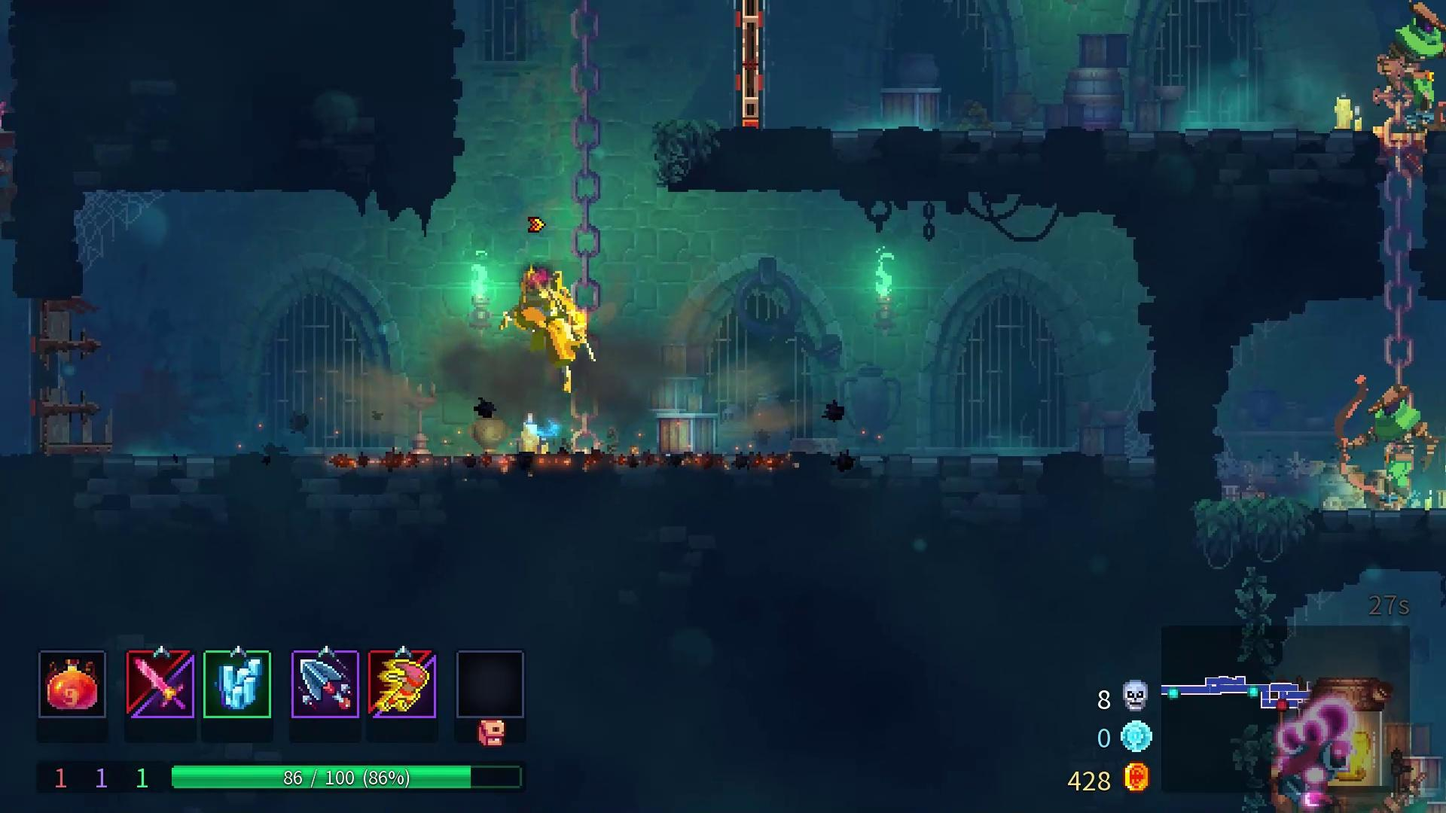gamer: (497, 251, 594, 379)
